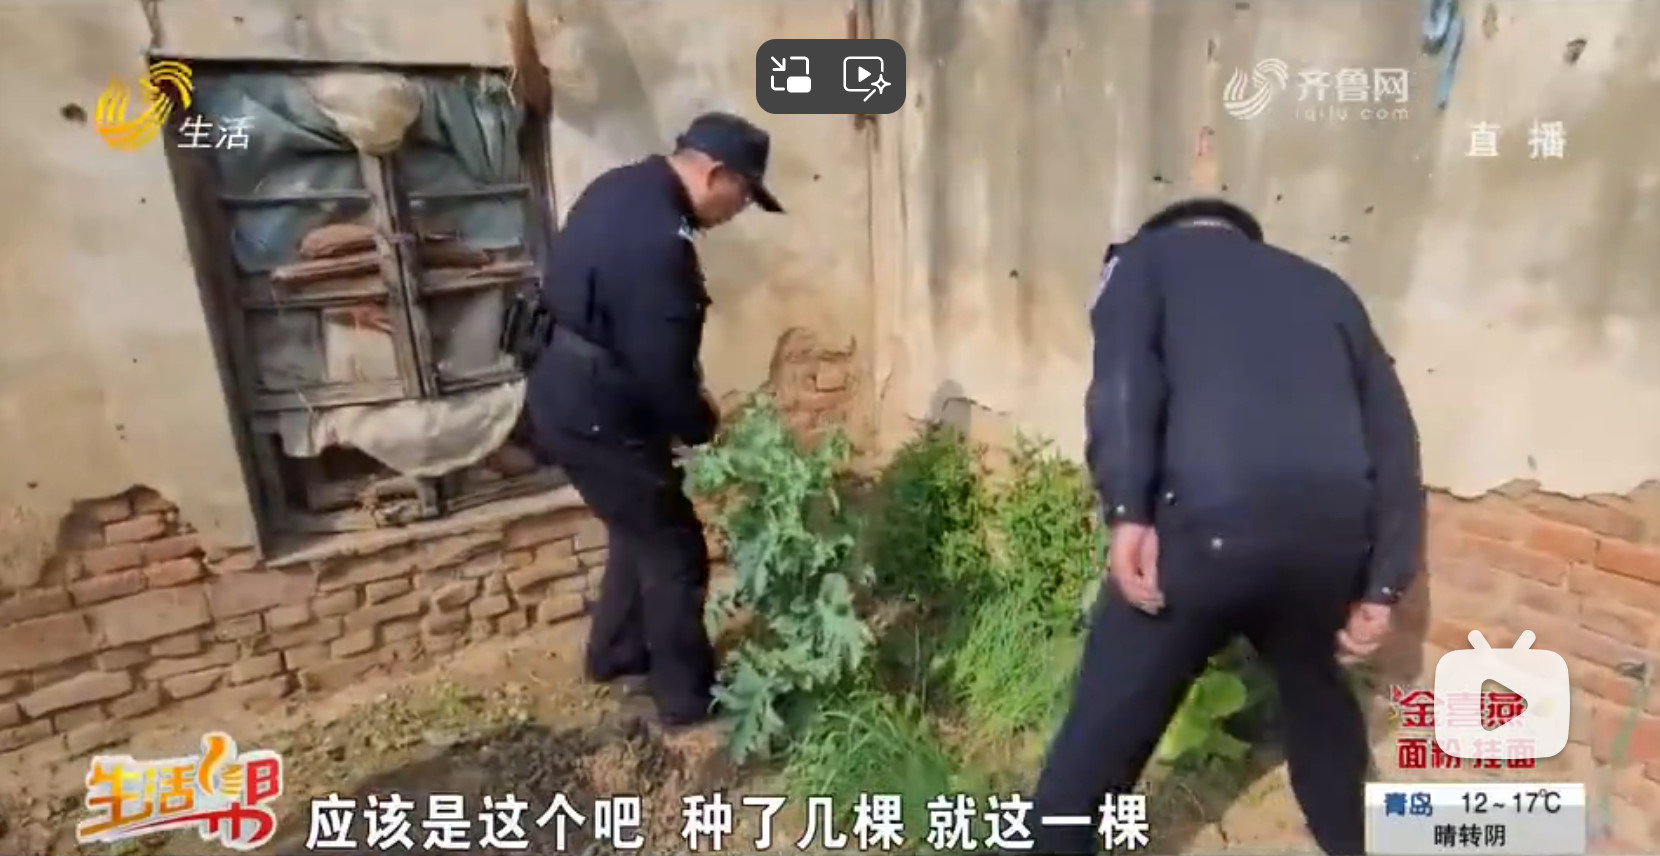Poppy: (669, 378, 888, 754)
